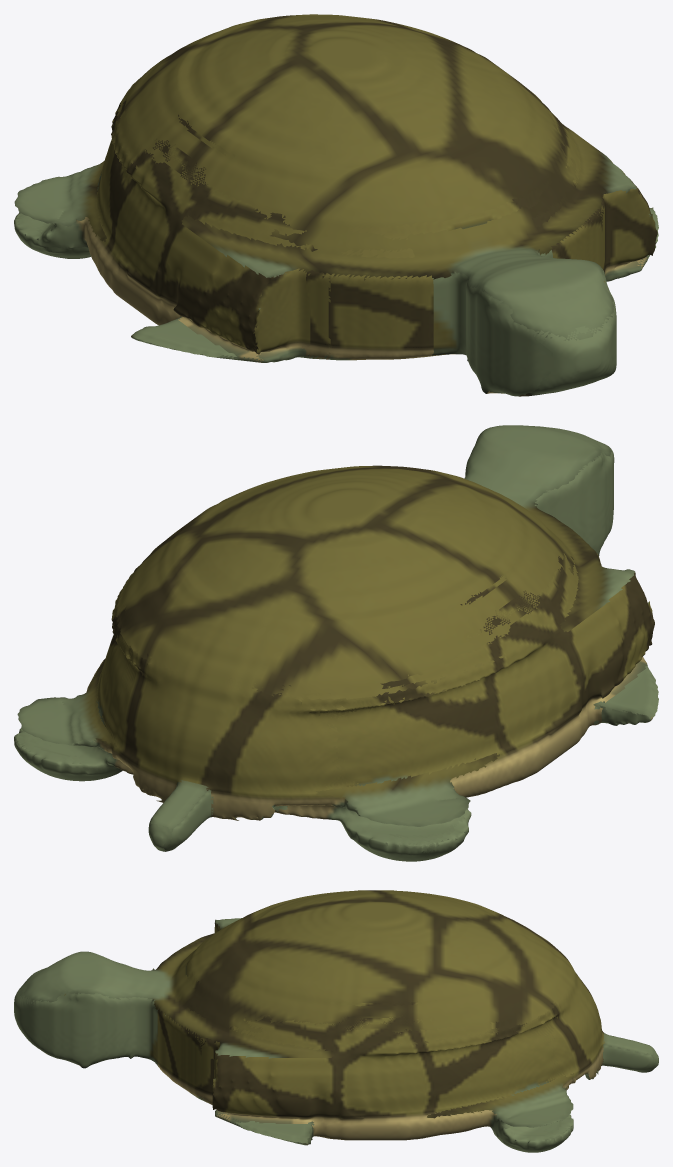
3 renders of one model, top to bottom at view 1: azimuth 30°, elevation 25°; view 2: azimuth 150°, elevation 25°; view 3: azimuth 270°, elevation 25°, orthographic. The views are drawn at different scales.
Parts seen in each view (by area): view 1: animal; view 2: animal; view 3: animal.
Boxes of the visible parts, x1,y1,x2,y2 form: animal: (14,14,658,396); animal: (14,425,658,861); animal: (14,890,658,1152).
Size of the model in its own units: 0.3173 by 0.1348 by 0.4545.
Materials: 1 (1 with a texture image).
